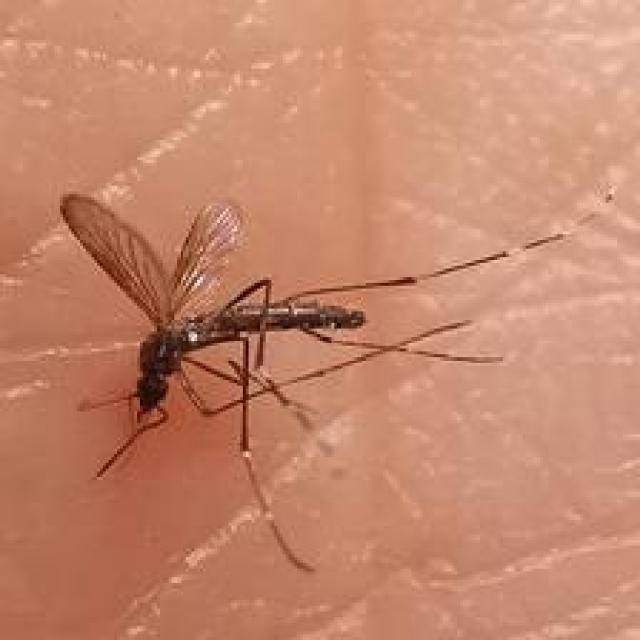Aedes albopictus: (51, 189, 608, 574)
